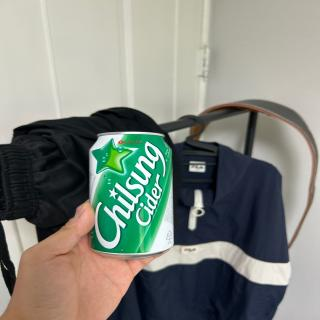cocacola: (87, 131, 176, 259)
